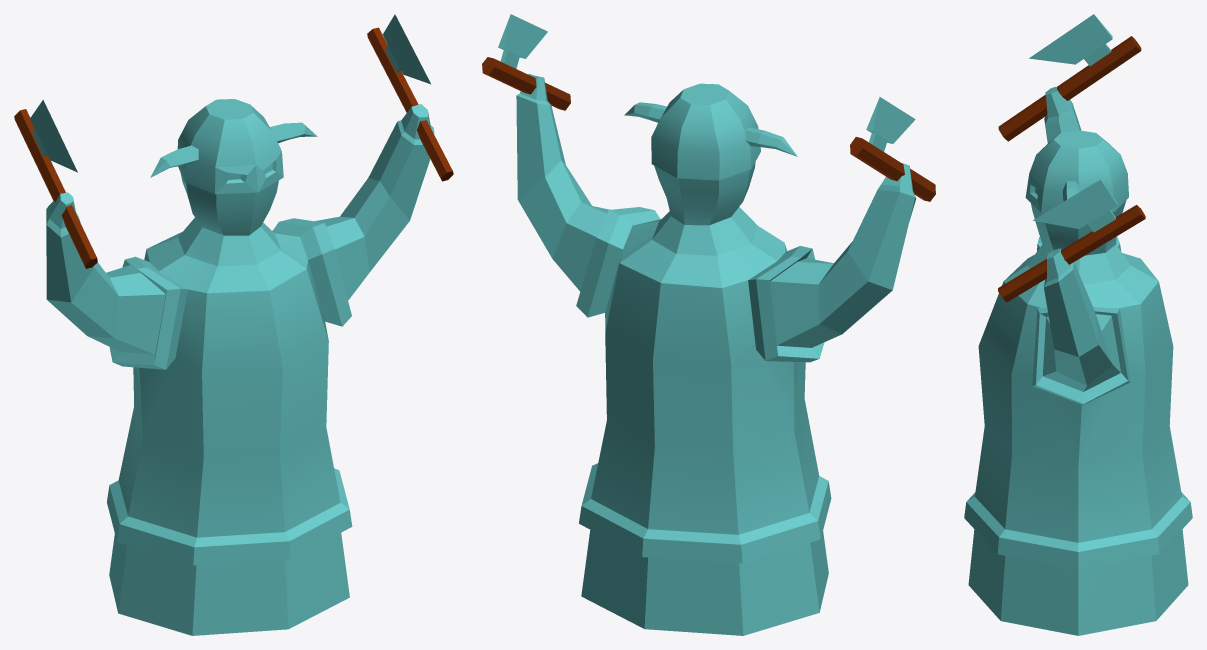
The model's file is VikingQueen.fbx.
3 views of the same model, side by side, from view 1: azimuth 30°, elevation 25°; view 2: azimuth 150°, elevation 25°; view 3: azimuth 270°, elevation 25° (orthographic). The views are drawn at different scales.
Visible parts, largest first — view 1: Queen; view 2: Queen; view 3: Queen.
Part boxes in pixels (box(x1,y1,x2,y2)): Queen: box(14, 14, 453, 635); Queen: box(482, 14, 935, 635); Queen: box(964, 14, 1192, 635).
Size of the model in its own units: 6.79 by 8.78 by 3.72.
